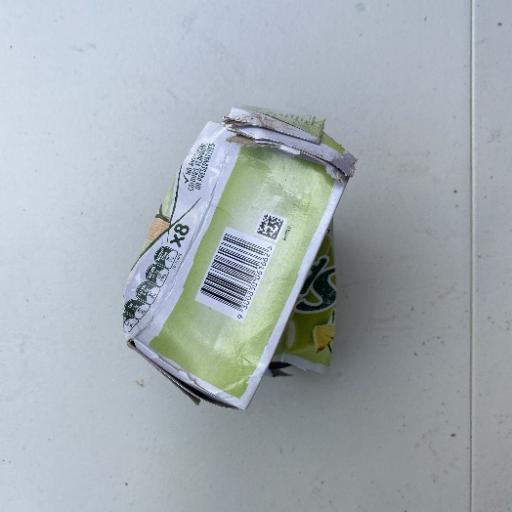Cardboard: (121, 104, 359, 412)
